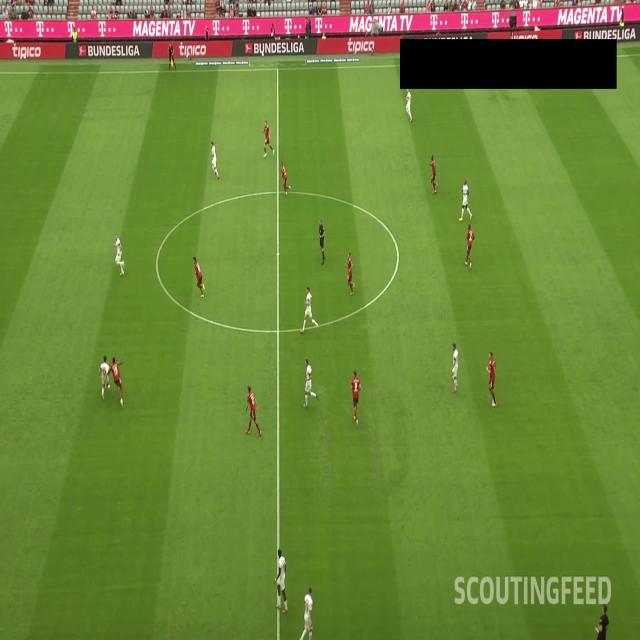player: (272, 545, 291, 616), (242, 378, 262, 441), (300, 356, 322, 409), (299, 282, 320, 333), (108, 356, 126, 412), (297, 585, 315, 640), (348, 366, 363, 428), (483, 348, 499, 405), (460, 222, 478, 270), (456, 175, 473, 224), (98, 347, 112, 402), (192, 252, 208, 300), (112, 232, 128, 276), (448, 338, 461, 392), (260, 116, 276, 158), (344, 242, 356, 296), (209, 132, 221, 184), (428, 152, 441, 196), (279, 161, 293, 195), (404, 85, 413, 122)
referee: (592, 595, 611, 640), (316, 212, 328, 266), (167, 40, 177, 72)
